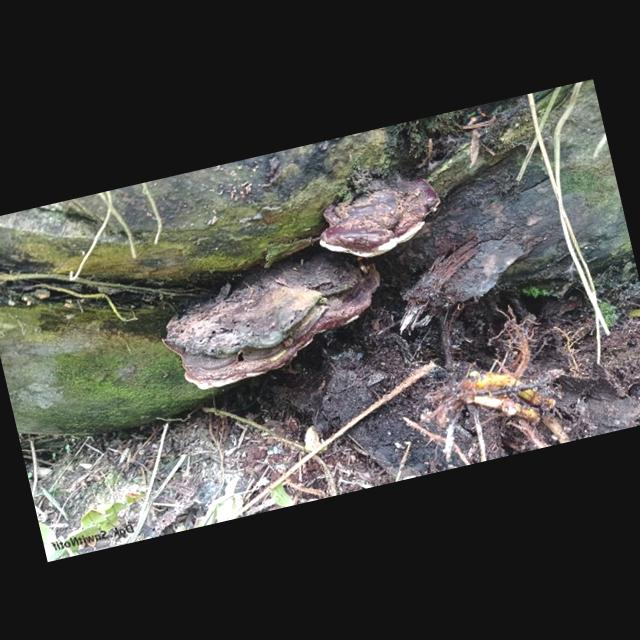ganoderma: (150, 237, 399, 400), (312, 177, 450, 267)
